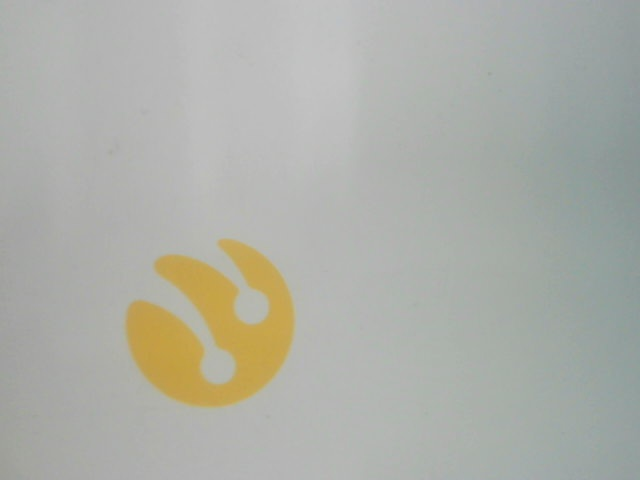AV_H3600Yellow: (105, 222, 319, 416)
